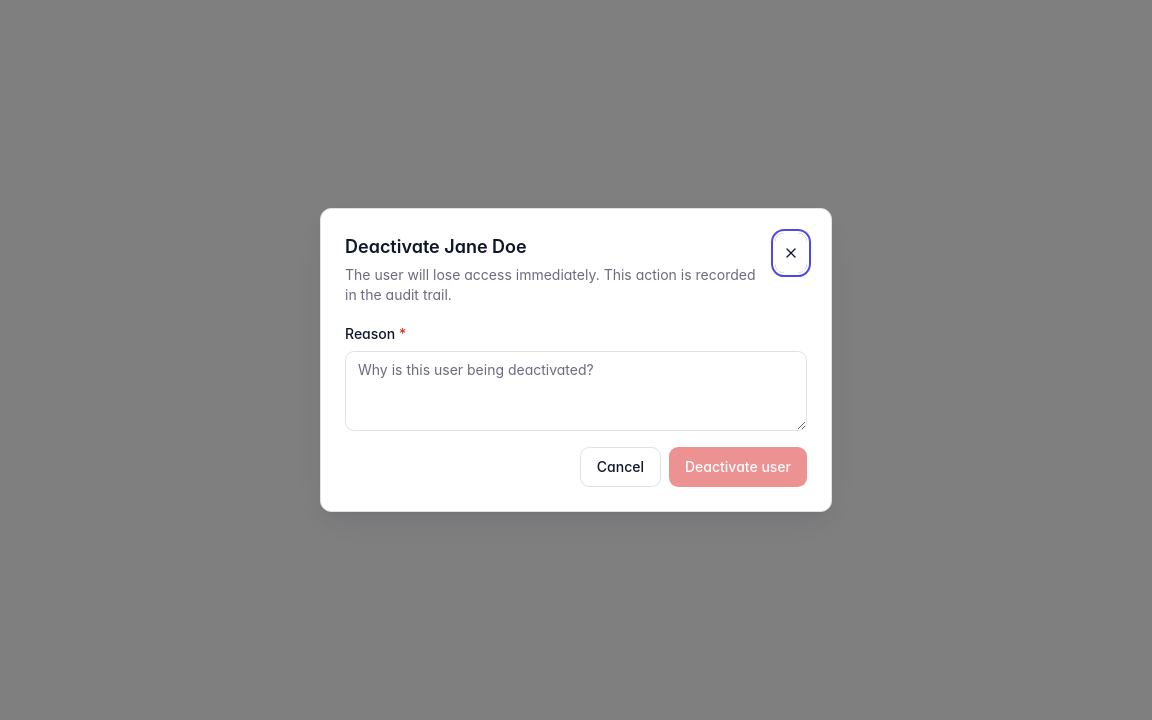
Test case: DeactivateUserDialog › keeps the confirm button disabled until a reason is entered
The image size is (1152, 720).
Expected: the button "Deactivate user" is disabled, x1=669 y1=447 x2=807 y2=487
Type "Left the company" into the text box labelled "Reason *". click: x=576, y=391
box: x1=345 y1=351 x2=807 y2=431
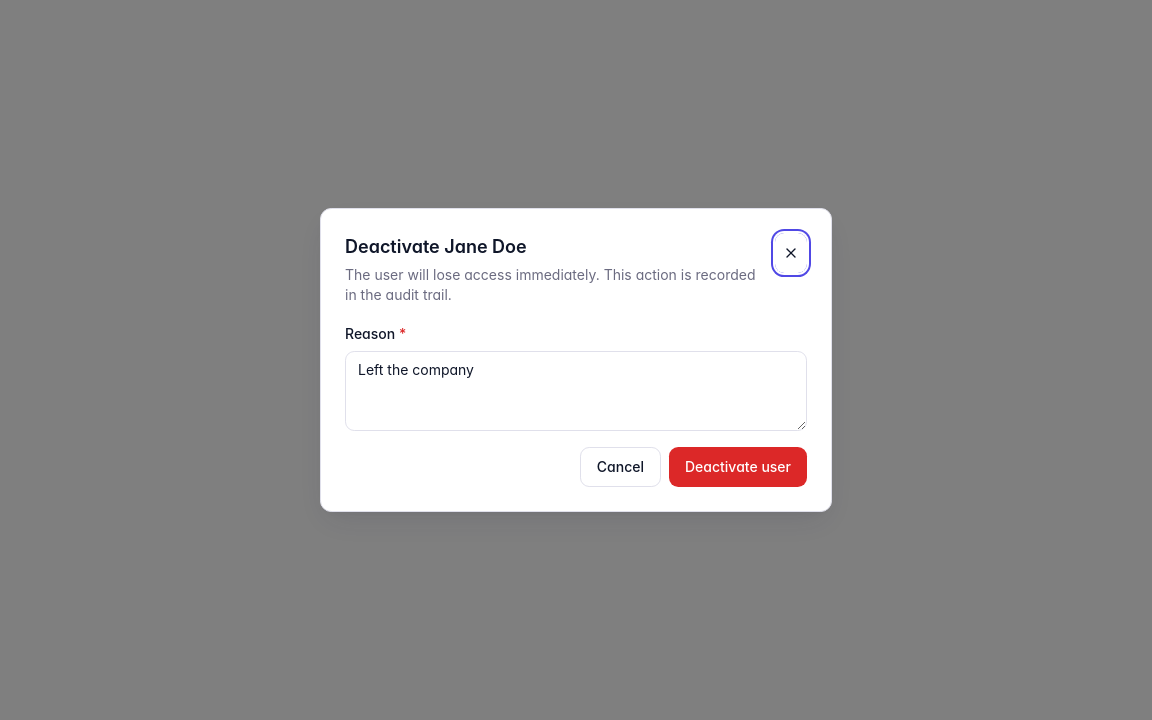
Now the button "Deactivate user" is enabled, box x1=669 y1=447 x2=807 y2=487
